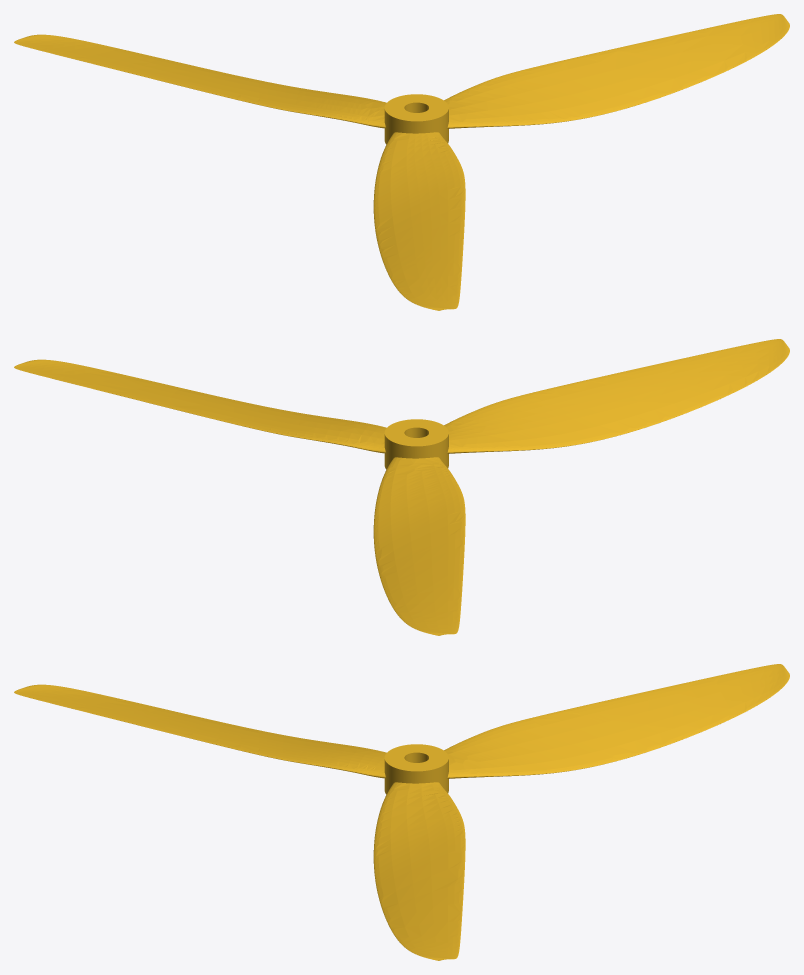
File: prop_fr.dae
The picture shows the model from 3 angles, top to bottom: view 1: azimuth 30°, elevation 25°; view 2: azimuth 150°, elevation 25°; view 3: azimuth 270°, elevation 25°; orthographic projection.
Visible parts, largest first — view 1: tmp_export_Part__Feature.030; view 2: tmp_export_Part__Feature.030; view 3: tmp_export_Part__Feature.030.
Boxes of the visible parts, bbox=[...] form: tmp_export_Part__Feature.030: bbox=[14, 14, 789, 310]; tmp_export_Part__Feature.030: bbox=[14, 339, 789, 635]; tmp_export_Part__Feature.030: bbox=[14, 664, 789, 960].
Size of the model in its own units: 0.1412 by 0.1569 by 0.00725.
